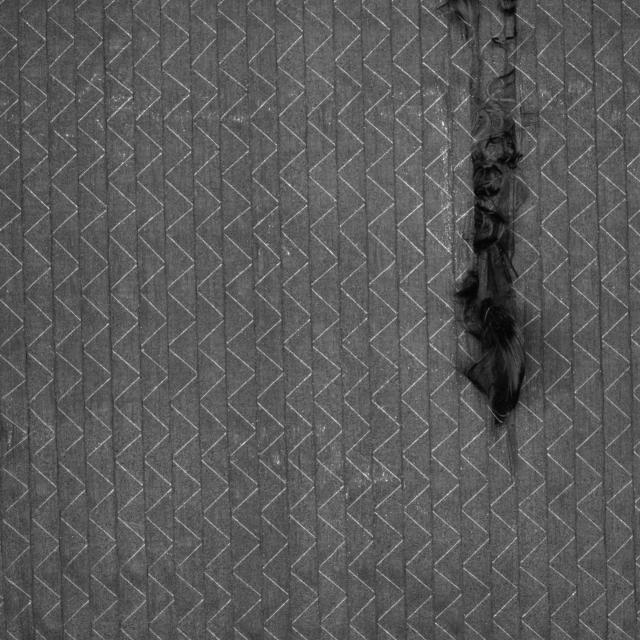carbon-fibre-defect: (428, 0, 525, 439)
